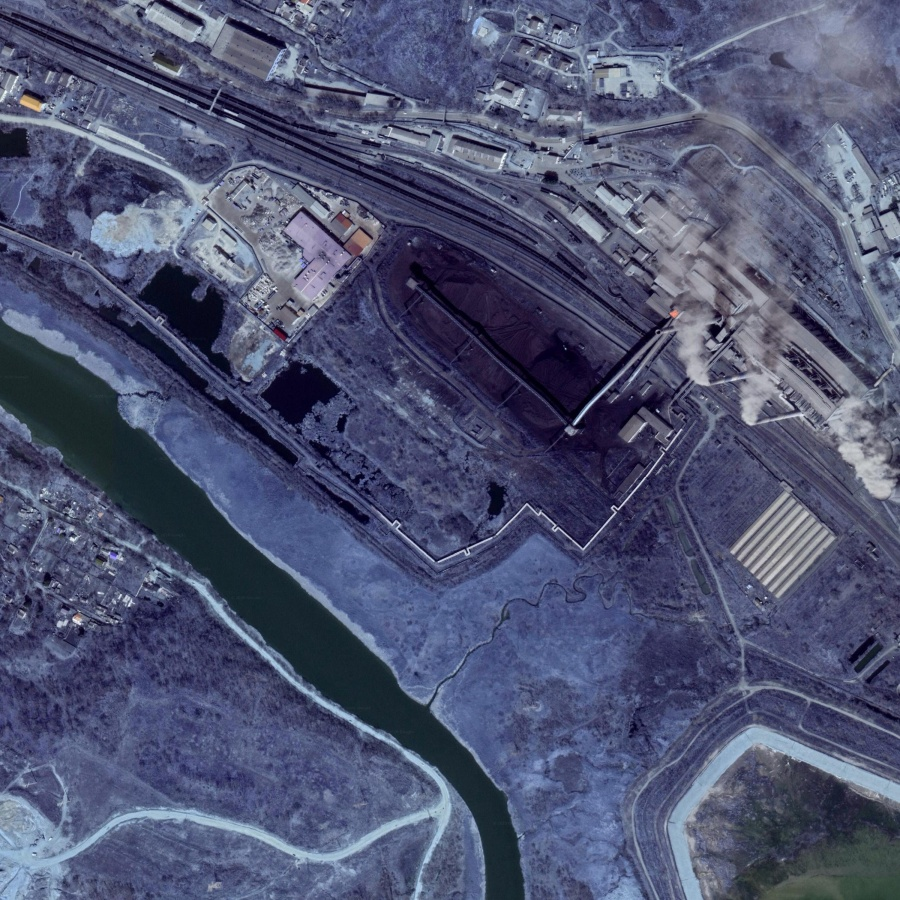PowerPlant: (382, 184, 823, 477)
